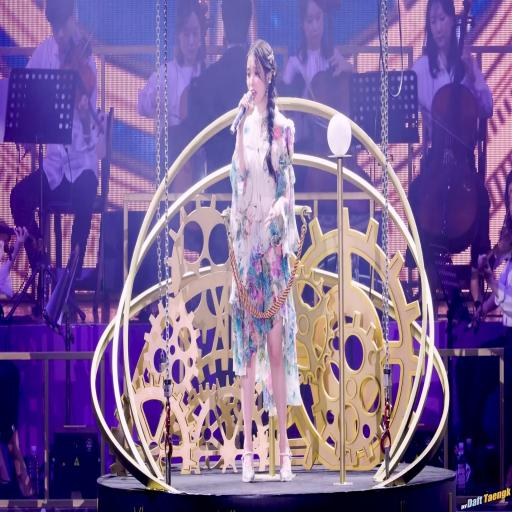IU: (246, 40, 277, 107)
